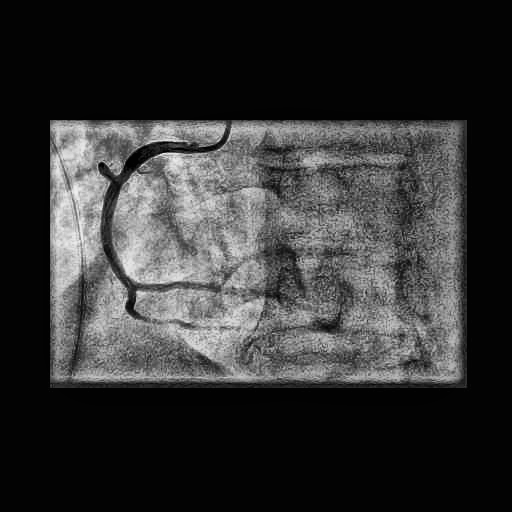pborca: (132, 244, 305, 292)
pda: (125, 290, 254, 331)
rca: (100, 141, 178, 290)
